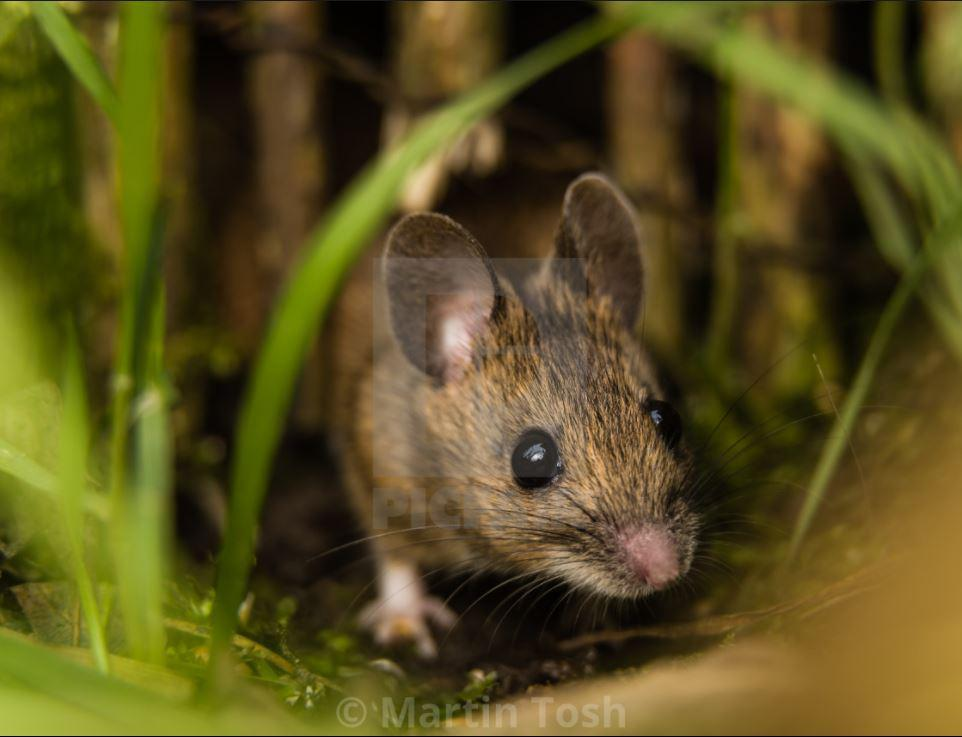rat: (332, 171, 704, 655)
